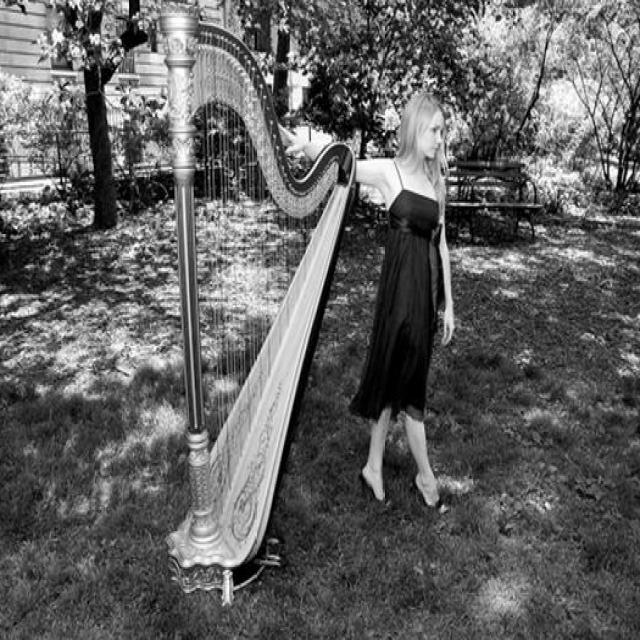harp: (152, 8, 354, 602)
